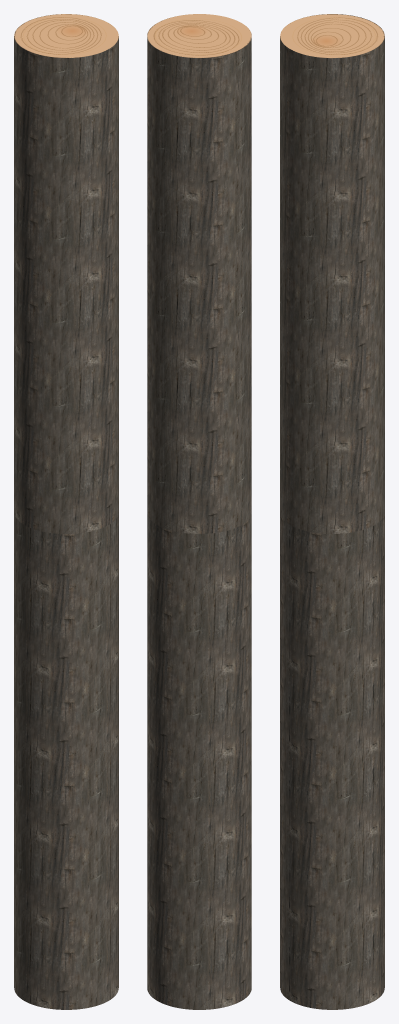
File: wood_poll.fbx
3 renders of one model, left to right at view 1: azimuth 90°, elevation 25°; view 2: azimuth 150°, elevation 25°; view 3: azimuth 270°, elevation 25°, orthographic.
Visible parts, largest first — view 1: Cylinder; view 2: Cylinder; view 3: Cylinder.
Boxes of the visible parts, x1,y1,x2,y2 form: Cylinder: (14, 14, 118, 1009); Cylinder: (147, 14, 251, 1009); Cylinder: (280, 14, 384, 1009).
Size of the model in its own units: 0.5981 by 6 by 0.5981.
Materials: 1 (1 with a texture image).
